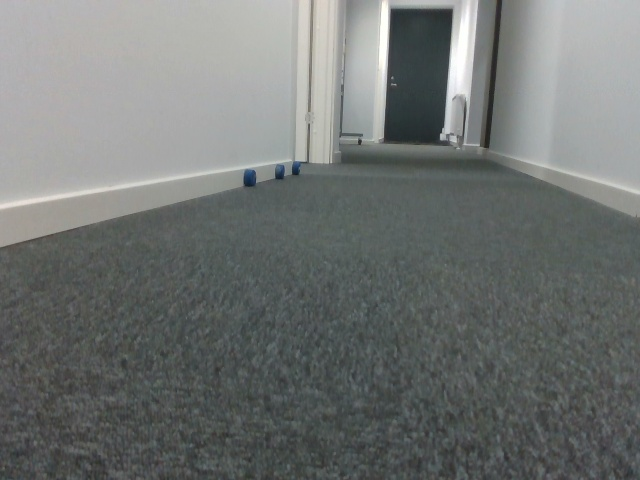alfa: (244, 167, 258, 187), (291, 161, 301, 176), (275, 164, 285, 178)
